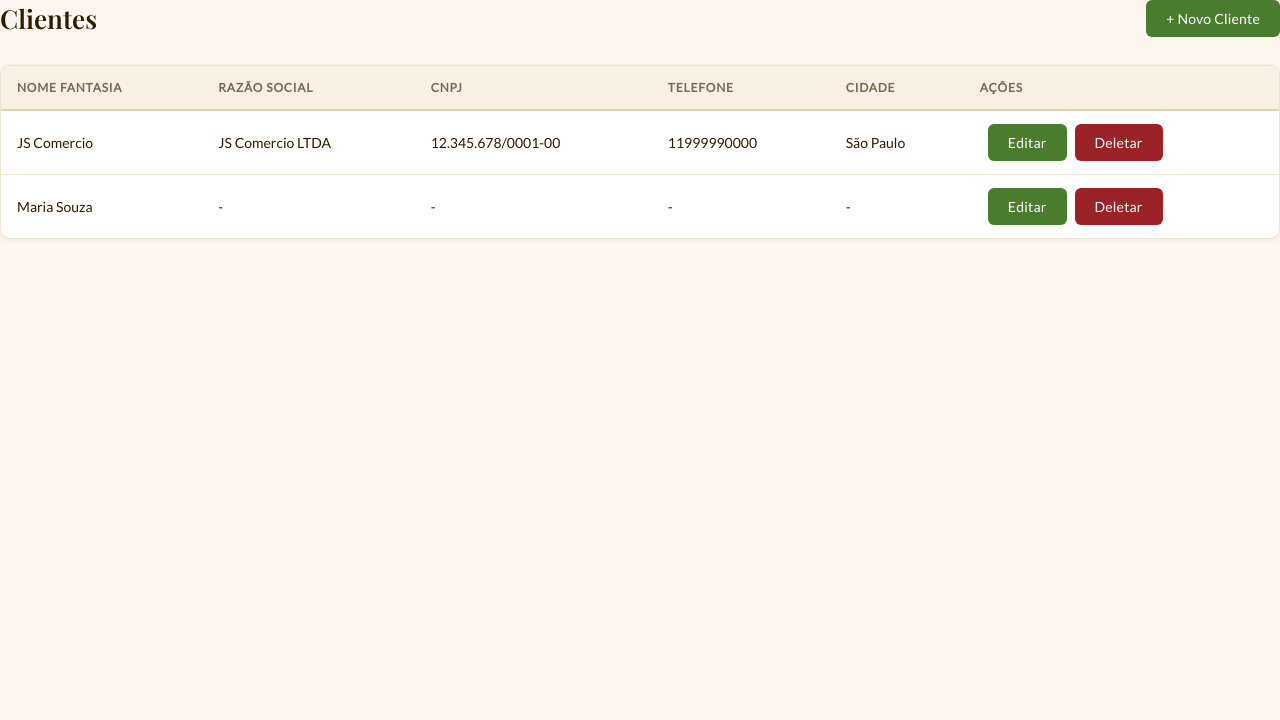
Test case: Clientes › lida com erro ao criar cliente
This screenshot has width=1280, height=720.
Expected: the text "JS Comercio" is shown, [1,110,202,174]
Click the button "+ Novo Cliente".
click(1213, 18)  # box [1146,0,1279,37]
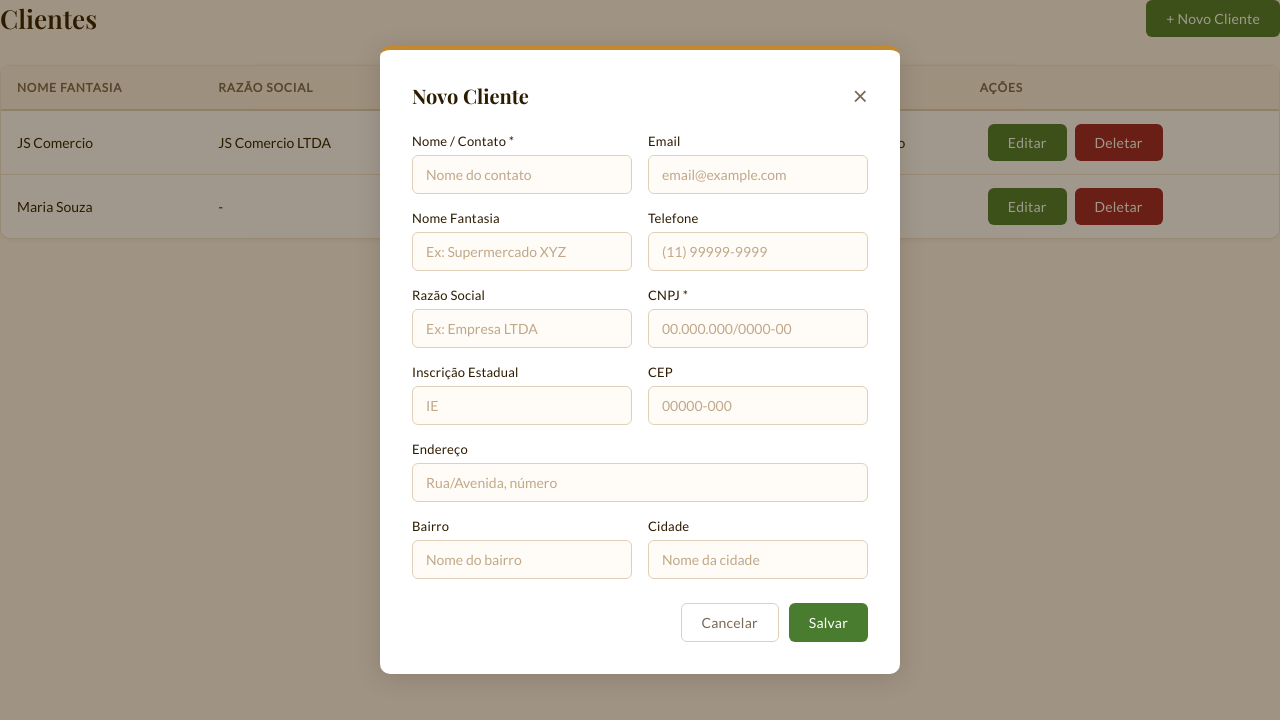
Type "Empresa Duplicada" into the field with placeholder "Nome do contato".
click(522, 174); type("Empresa Duplicada")  # box [412,155,632,194]
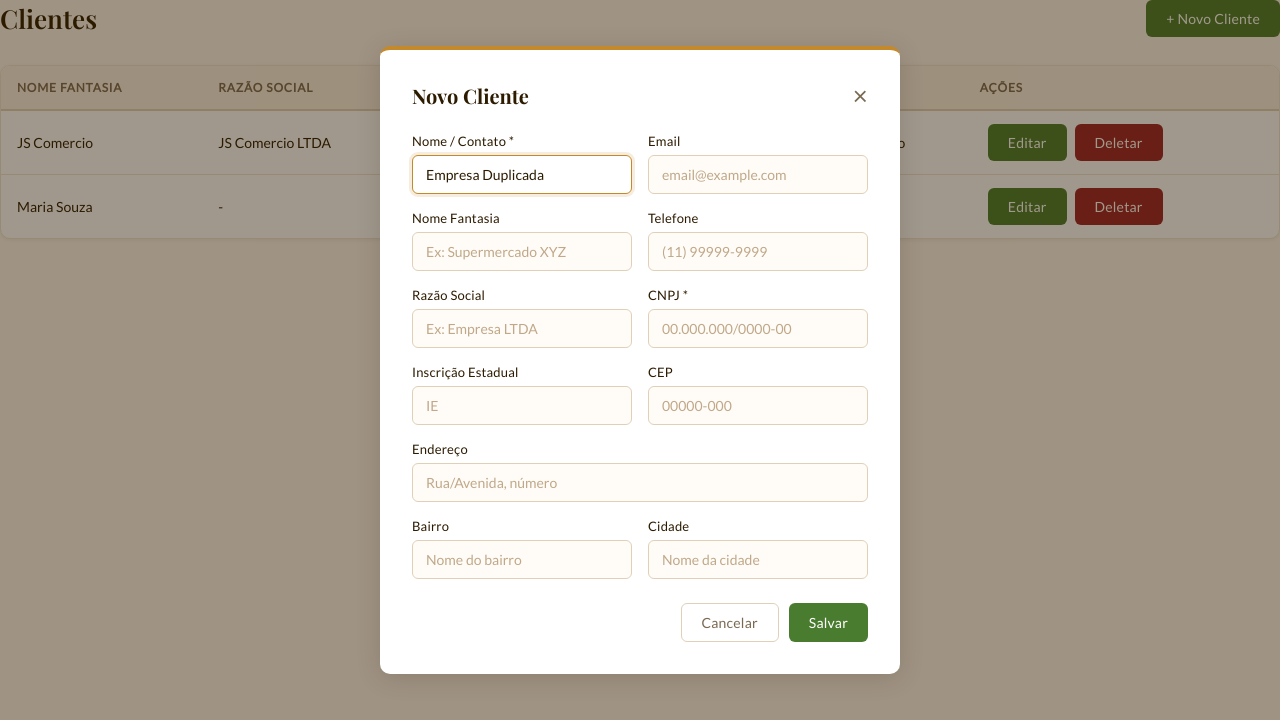
Type "12.345.678/0001-00" into the field with placeholder "00.000.000/0000-00".
click(758, 328); type("12.345.678/0001-00")  # box [648,309,868,348]
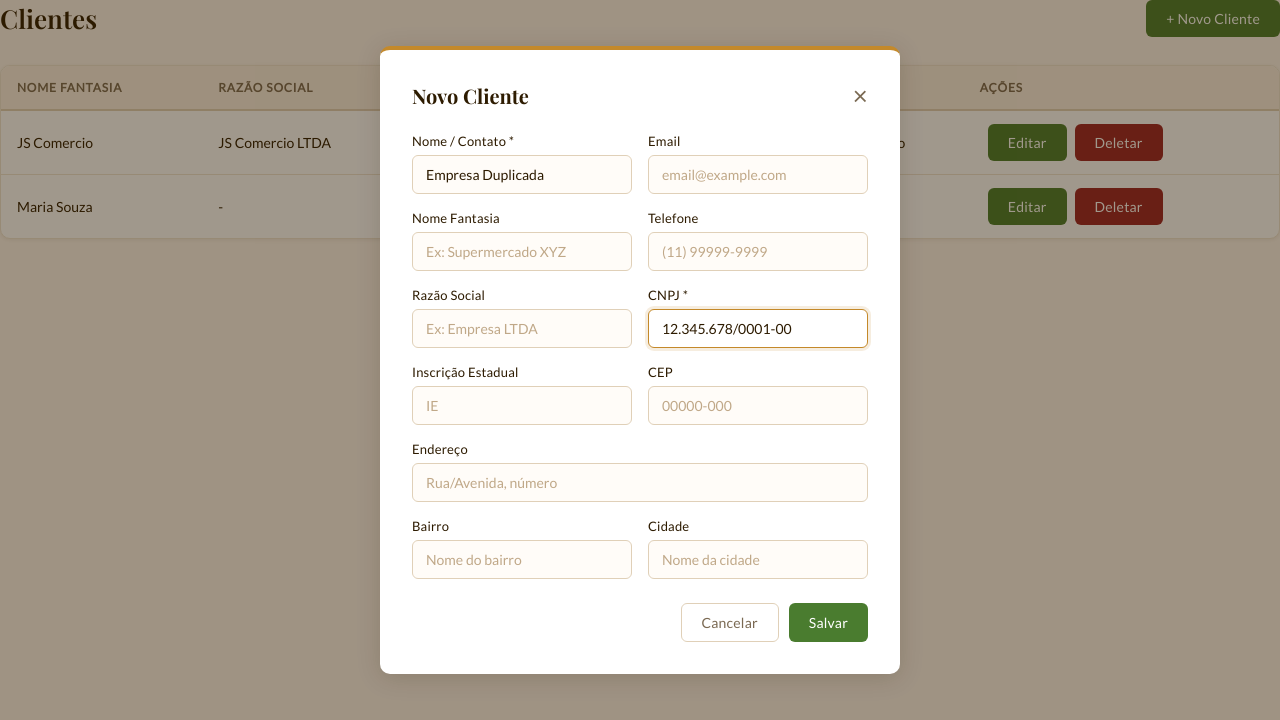
Submit the text "Salvar", box [412,133,868,642]
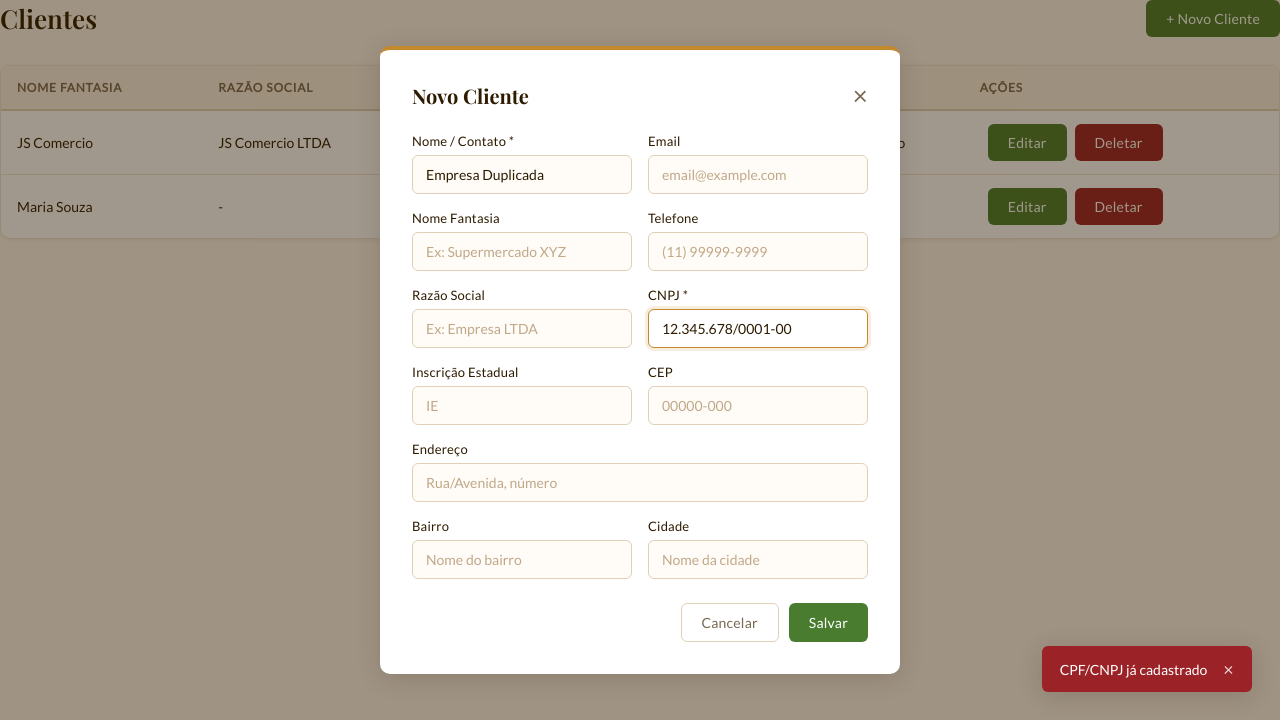
Expected: the text "CPF/CNPJ já cadastrado" is shown, [1060,660,1207,678]
